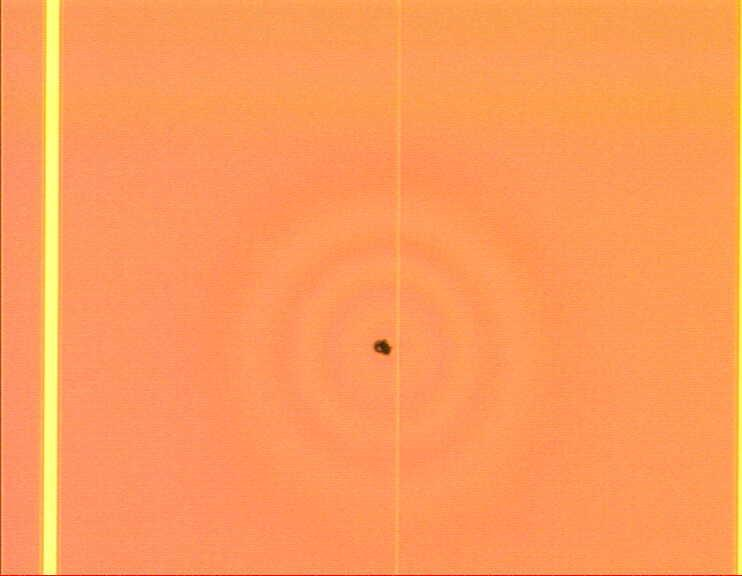PIQ PARTICLE: (367, 333, 399, 365)
